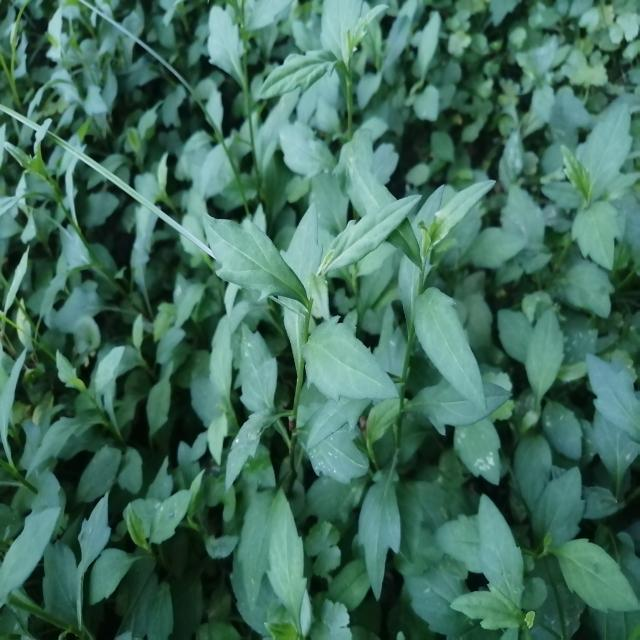Indian aster: (191, 192, 407, 522), (402, 160, 514, 464)
